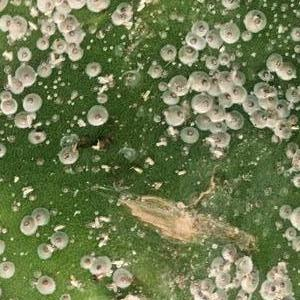Femea: (55, 13, 73, 38), (209, 71, 229, 89), (221, 87, 243, 103), (179, 45, 197, 63), (190, 71, 206, 91), (87, 106, 103, 124), (275, 99, 291, 117), (16, 66, 32, 83), (185, 34, 204, 47), (168, 107, 185, 121), (179, 128, 196, 141), (208, 106, 225, 119), (24, 92, 36, 110), (172, 79, 186, 94), (241, 98, 258, 110), (255, 83, 269, 97), (195, 96, 209, 109), (35, 36, 49, 49), (211, 120, 226, 132), (194, 20, 206, 33), (41, 22, 53, 34), (52, 41, 64, 53), (0, 14, 10, 28), (38, 64, 50, 75), (19, 49, 30, 61)
Linfa: (283, 47, 296, 60), (63, 95, 76, 108), (50, 74, 61, 88), (99, 43, 116, 52), (85, 35, 95, 50), (36, 80, 48, 92), (261, 1, 277, 9), (44, 92, 60, 99), (250, 51, 258, 58), (274, 33, 283, 39)
Macho: (49, 53, 65, 67), (155, 138, 170, 151), (139, 88, 154, 100), (18, 186, 36, 196), (143, 157, 158, 167), (92, 213, 102, 228), (26, 19, 38, 31), (52, 223, 67, 232), (131, 165, 145, 174), (97, 214, 111, 223), (177, 166, 187, 177), (97, 164, 114, 170)
